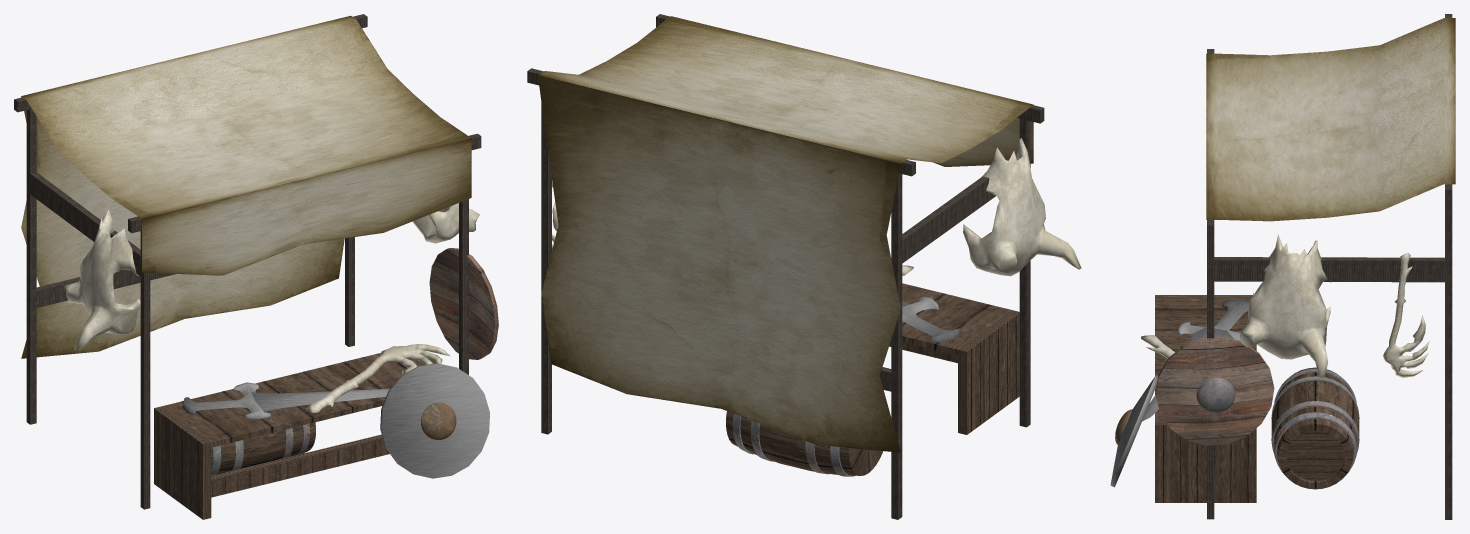
The model's file is ShopForge.FBX.
The picture shows the model from 3 angles, left to right: view 1: azimuth 30°, elevation 25°; view 2: azimuth 150°, elevation 25°; view 3: azimuth 270°, elevation 25°; orthographic projection. The views are drawn at different scales.
Parts seen in each view (by area): view 1: Drapé002, Etale002, Structure_Base002, Bouclier_métal, Group12905, Bouclier_bois, Tonneau007, mesh, kostyanoi_topor1, Group12906; view 2: Drapé002, Structure_Base002, Etale002, Group12905, Tonneau007, mesh; view 3: Drapé002, Bouclier_bois, Etale002, Tonneau007, Structure_Base002, Group12906, kostyanoi_topor002, Bouclier_métal, mesh.
Part boxes in pixels (x1=…): Drapé002: x1=21, y1=15, x2=471, y2=358; Etale002: x1=154, y1=353, x2=436, y2=519; Structure_Base002: x1=14, y1=14, x2=481, y2=509; Bouclier_métal: x1=380, y1=363, x2=489, y2=478; Group12905: x1=64, y1=209, x2=140, y2=350; Bouclier_bois: x1=429, y1=248, x2=498, y2=359; Tonneau007: x1=211, y1=422, x2=315, y2=475; mesh: x1=182, y1=382, x2=389, y2=418; kostyanoi_topor1: x1=306, y1=344, x2=450, y2=412; Group12906: x1=412, y1=203, x2=479, y2=243; Drapé002: x1=538, y1=16, x2=1033, y2=452; Structure_Base002: x1=527, y1=14, x2=1044, y2=519; Etale002: x1=889, y1=283, x2=1019, y2=434; Group12905: x1=963, y1=138, x2=1081, y2=276; Tonneau007: x1=726, y1=411, x2=883, y2=476; mesh: x1=902, y1=296, x2=960, y2=342; Drapé002: x1=1206, y1=18, x2=1455, y2=221; Bouclier_bois: x1=1155, y1=336, x2=1274, y2=445; Etale002: x1=1155, y1=295, x2=1256, y2=502; Tonneau007: x1=1271, y1=367, x2=1359, y2=489; Structure_Base002: x1=1207, y1=14, x2=1452, y2=519; Group12906: x1=1240, y1=234, x2=1330, y2=377; kostyanoi_topor002: x1=1383, y1=252, x2=1429, y2=377; Bouclier_métal: x1=1110, y1=375, x2=1157, y2=487; mesh: x1=1141, y1=299, x2=1248, y2=421.
Bounding box in the file's own units: 699 × 549 × 462.
